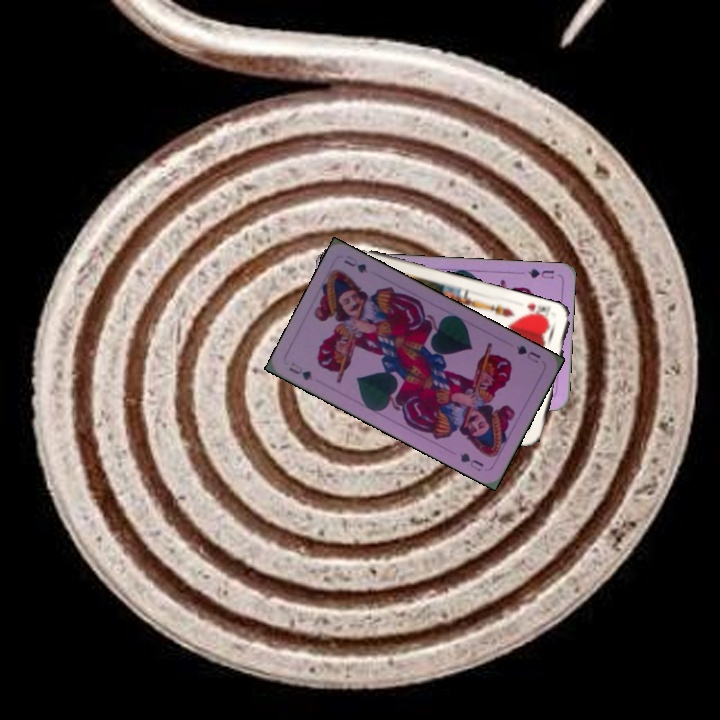GU: (512, 341, 543, 366), (285, 358, 315, 383), (524, 265, 556, 281)
HK: (521, 299, 552, 323)
